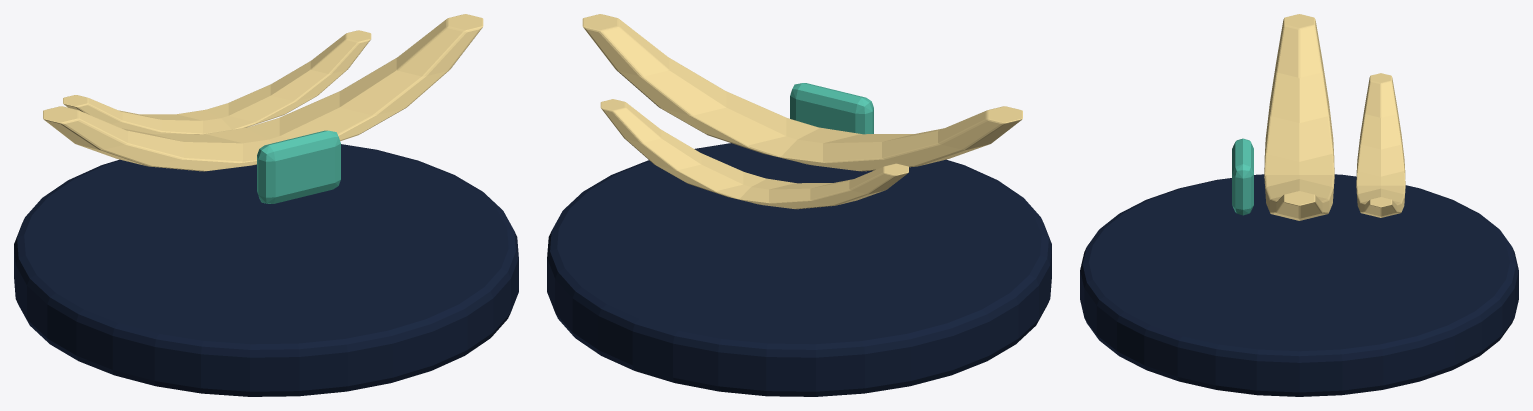
Rendered from hat_banana.fbx.
3 renders of one model, left to right at view 1: azimuth 30°, elevation 25°; view 2: azimuth 150°, elevation 25°; view 3: azimuth 270°, elevation 25°, orthographic. The views are drawn at different scales.
Visible parts, largest first — view 1: hat_banana.Mesh; view 2: hat_banana.Mesh; view 3: hat_banana.Mesh.
Part boxes in pixels (x1,y1,x2,y2): hat_banana.Mesh: (14,14,518,396); hat_banana.Mesh: (547,14,1051,396); hat_banana.Mesh: (1080,14,1518,396).
Bounding box in the file's own units: 70.64 × 35.11 × 70.
